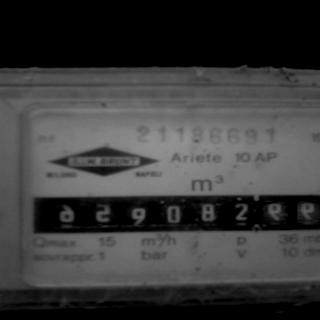1: (165, 204, 184, 226)
3: (231, 201, 251, 223)
6: (92, 203, 115, 225)
7: (55, 204, 79, 226)
9: (198, 203, 219, 224)
:: (128, 205, 150, 228), (298, 201, 320, 223), (267, 202, 286, 223)
